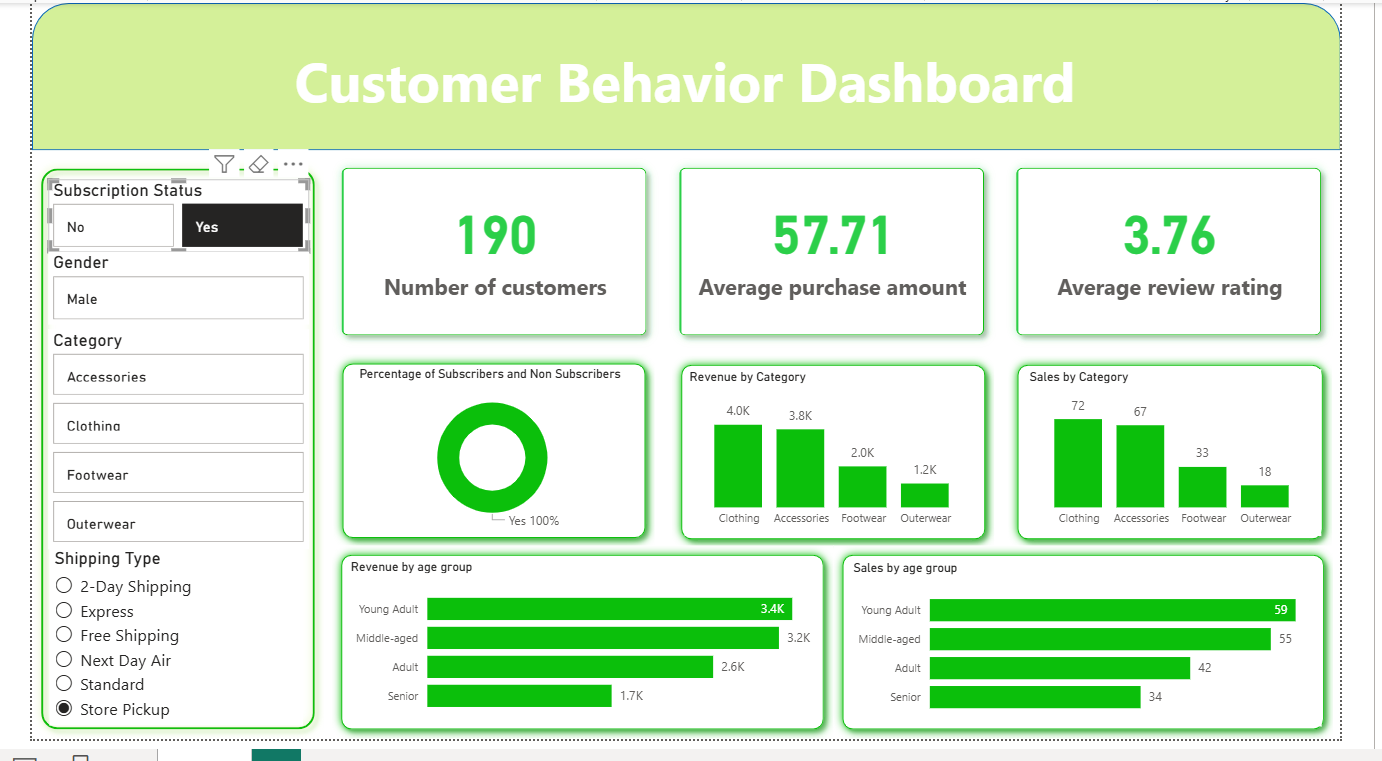

This screenshot's page, from the dashboard's own definition file:
{"tool":"powerbi","page":{"name":"Page 1","canvas":[1280,720],"ordinal":0},"visuals":[{"type":"cardVisual","fields":{"Data":["public customer.Number of customers","public customer.Average purchase amount","public customer.Average review rating"]},"box":[286,144.2,994.2,198.8],"z":0},{"type":"shape","box":[0,0,1280.2,144.2],"z":1000},{"type":"textbox","box":[141.9,33.7,994.2,81.4],"z":2000},{"type":"shape","box":[294.4,343.3,314.4,188.9],"z":3000},{"type":"shape","box":[625.6,344.4,315.6,188.9],"z":4000},{"type":"shape","box":[955.6,344.4,316.7,188.9],"z":5000},{"type":"donutChart","title":"Percentage of Subscribers and Non Subscribers","fields":{"Category":["public customer.subscription_status"],"Y":["CountNonNull(public customer.customer_id)"]},"box":[316,356,270,164.7],"z":6000},{"type":"clusteredColumnChart","title":"Revenue by Category","fields":{"Category":["public customer.category"],"Y":["Sum(public customer.purchase_amount)"]},"box":[638.9,357.8,290,163.3],"z":7000},{"type":"clusteredColumnChart","title":"Sales by Category","fields":{"Category":["public customer.category"],"Y":["CountNonNull(public customer.customer_id)"]},"box":[971.1,357.8,290,163.3],"z":8000},{"type":"shape","box":[0,153.3,285.6,566.7],"z":9000},{"type":"advancedSlicerVisual","title":"Subscription Status","fields":{"Values":["public customer.subscription_status"]},"box":[16.2,172.5,255,71.2],"z":10000},{"type":"advancedSlicerVisual","title":"Gender","fields":{"Values":["public customer.gender"]},"box":[16.2,243.8,255,71.2],"z":11000},{"type":"advancedSlicerVisual","title":"Category","fields":{"Values":["public customer.category"]},"box":[16.2,318.8,255,215],"z":12000},{"type":"listSlicer","title":"Shipping Type","fields":{"Values":["public customer.shipping_type"]},"box":[16.7,533.3,247.8,173.3],"z":13000},{"type":"shape","box":[784,531,489,189],"z":14000},{"type":"shape","box":[294,531,490,189],"z":15000},{"type":"barChart","title":"Revenue by age group","fields":{"Category":["public customer.age_group"],"Y":["Sum(public customer.purchase_amount)"]},"box":[307,544,463,162],"z":17000},{"type":"barChart","title":"Sales by age group","fields":{"Category":["public customer.age_group"],"Y":["CountNonNull(public customer.customer_id)"]},"box":[798,545,463,162],"z":17001}]}

Visuals, with their boxes in screenshot pixels (x1, y1, x2, y2), scaled from the page's 1280x720 canvas onto the 1382x761 screenshot:
cardVisual - public customer.Number of customers x public customer.Average purchase amount: bbox=(309, 152, 1381, 363)
shape: bbox=(0, 0, 1381, 152)
textbox: bbox=(153, 36, 1227, 122)
shape: bbox=(318, 363, 657, 563)
shape: bbox=(675, 364, 1016, 564)
shape: bbox=(1032, 364, 1374, 564)
"Percentage of Subscribers and Non Subscribers" donutChart: bbox=(341, 376, 633, 550)
"Revenue by Category" clusteredColumnChart: bbox=(690, 378, 1003, 551)
"Sales by Category" clusteredColumnChart: bbox=(1048, 378, 1362, 551)
shape: bbox=(0, 162, 308, 760)
"Subscription Status" advancedSlicerVisual: bbox=(17, 182, 293, 258)
"Gender" advancedSlicerVisual: bbox=(17, 258, 293, 333)
"Category" advancedSlicerVisual: bbox=(17, 337, 293, 564)
"Shipping Type" listSlicer: bbox=(18, 564, 286, 747)
shape: bbox=(846, 561, 1374, 760)
shape: bbox=(317, 561, 846, 760)
"Revenue by age group" barChart: bbox=(331, 575, 831, 746)
"Sales by age group" barChart: bbox=(862, 576, 1361, 747)
